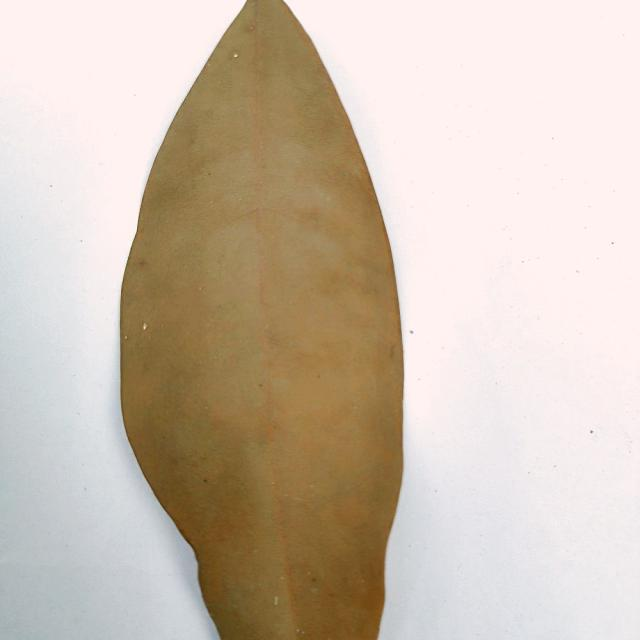Dry_Leaf-Lychee: (118, 0, 405, 639)
